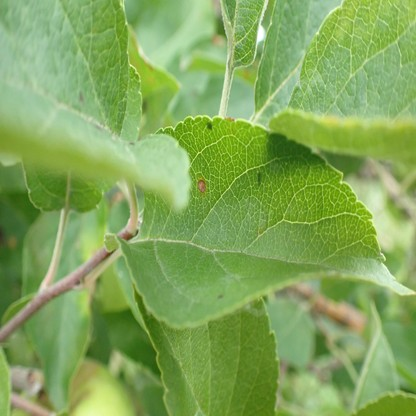frogeye_leaf_spot: (197, 178, 206, 192)
